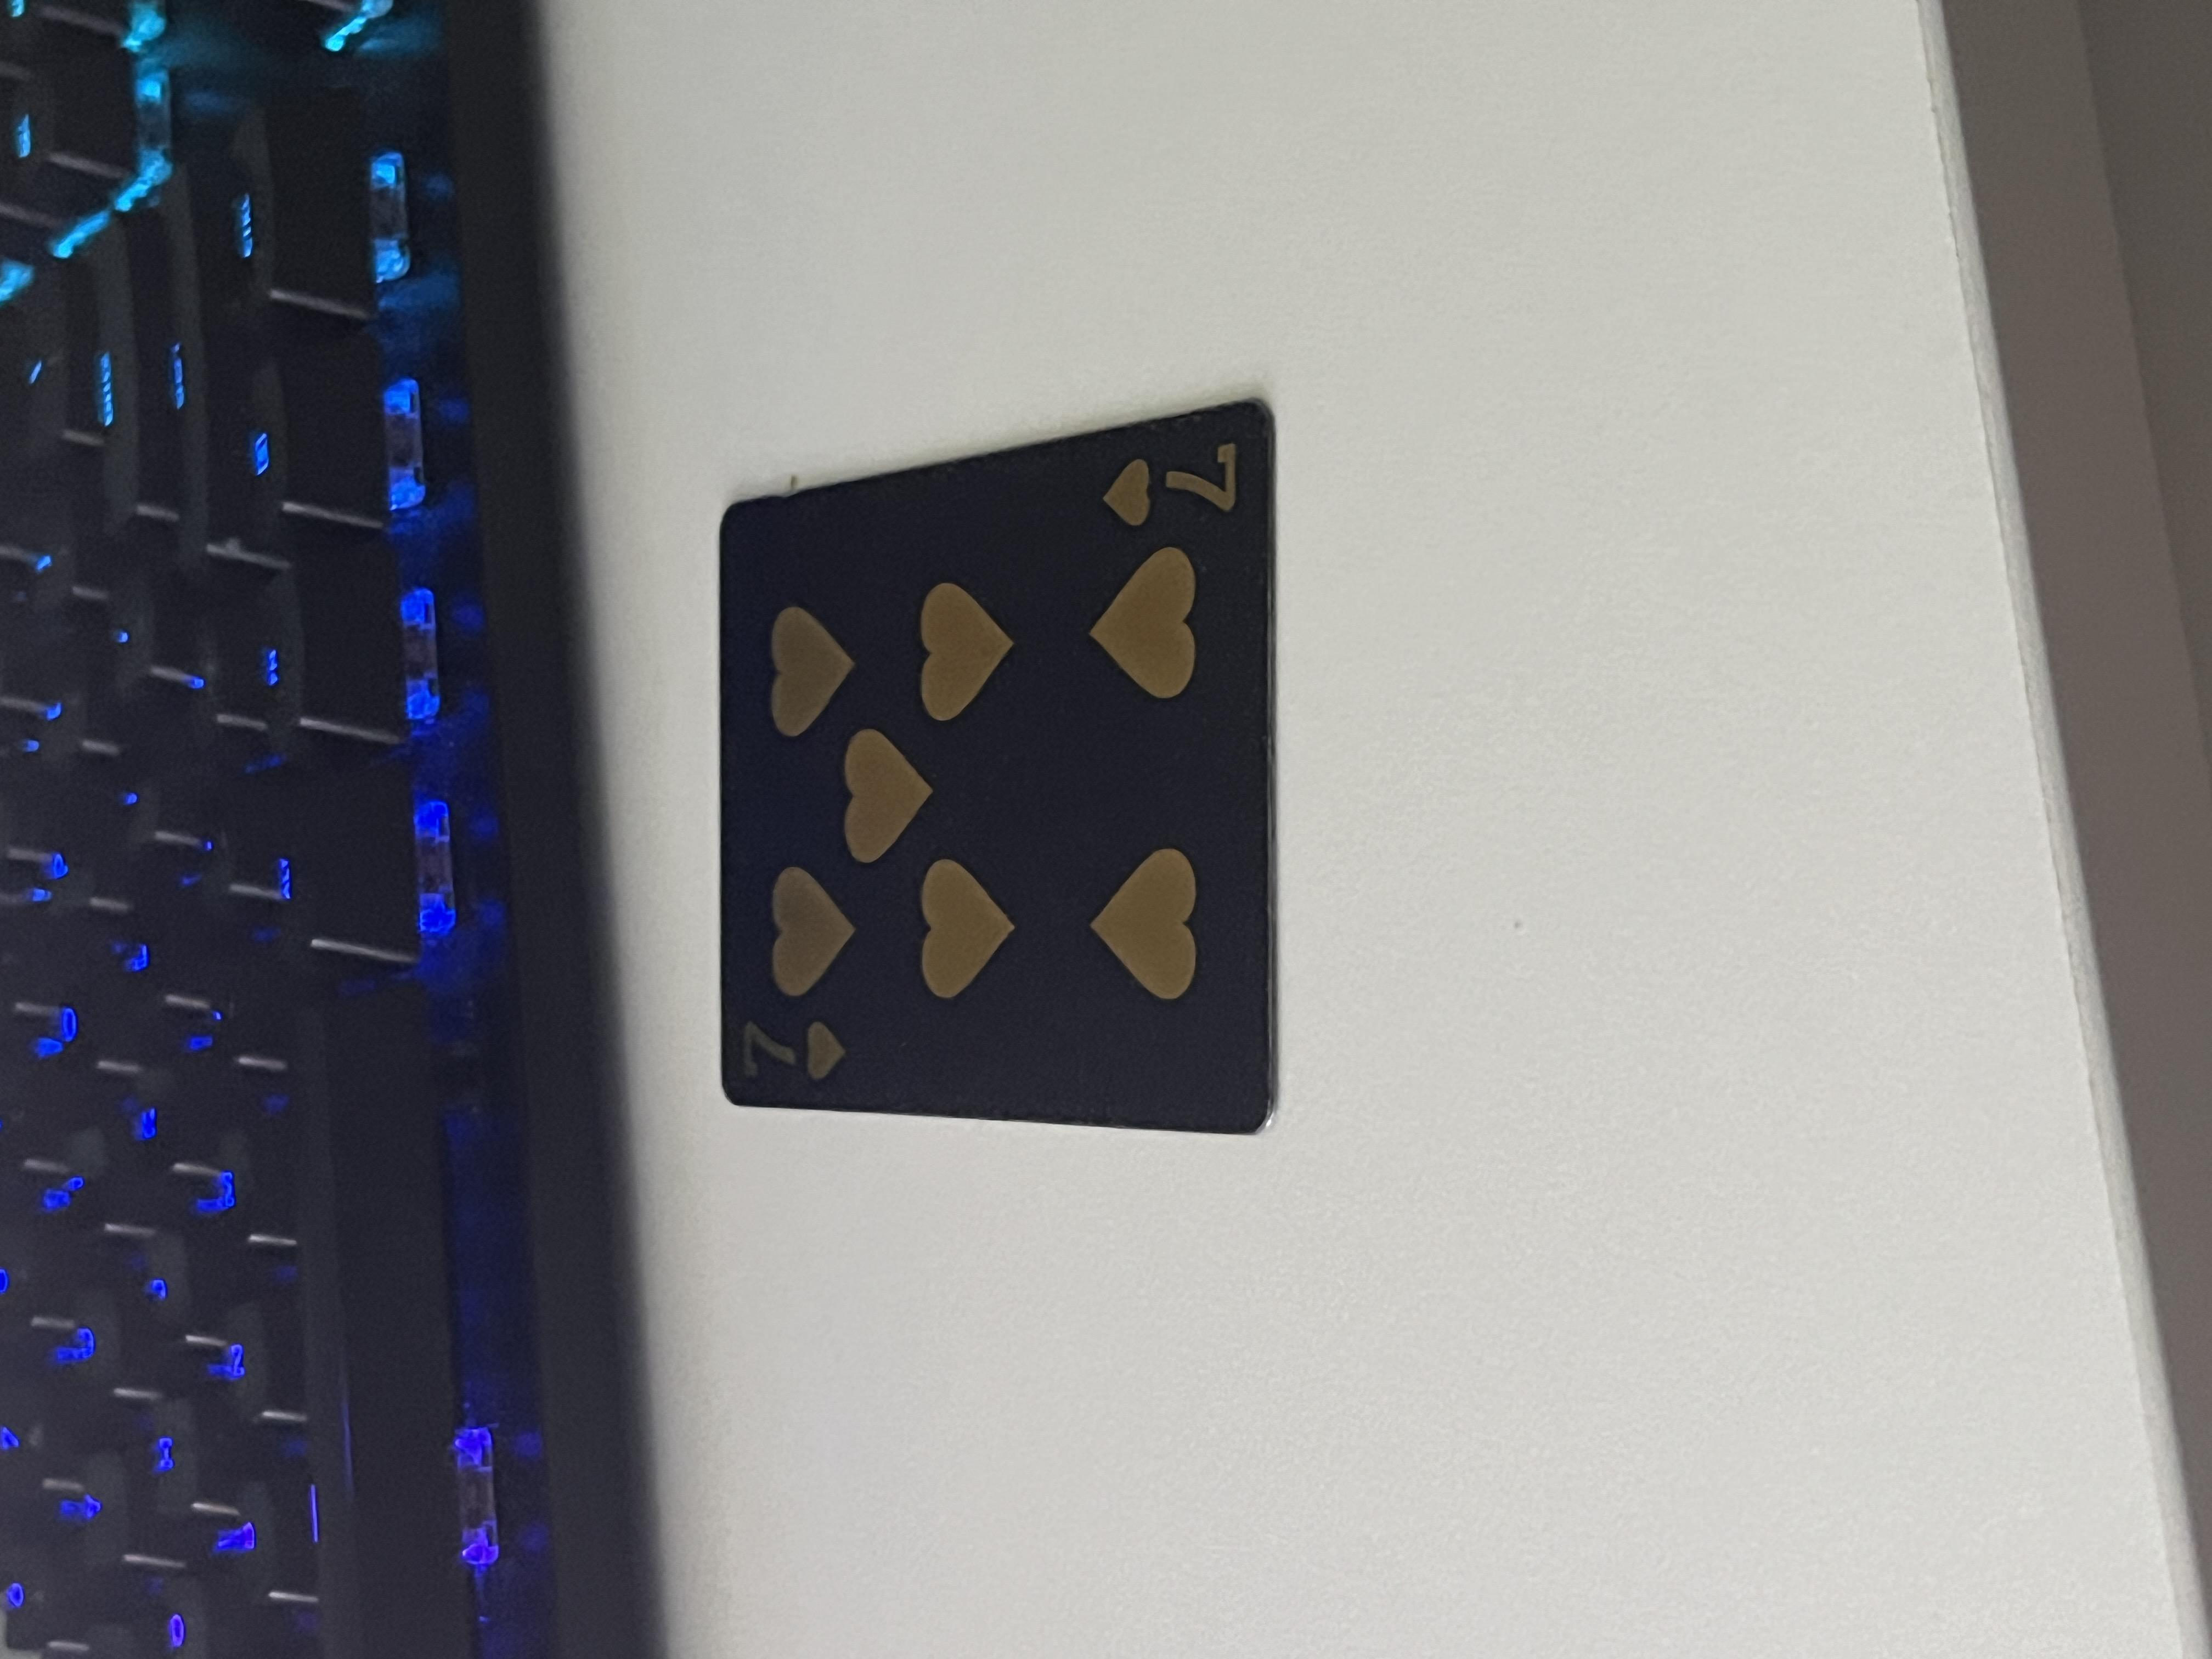7H: (1489, 821, 1632, 934), (759, 547, 866, 640)
